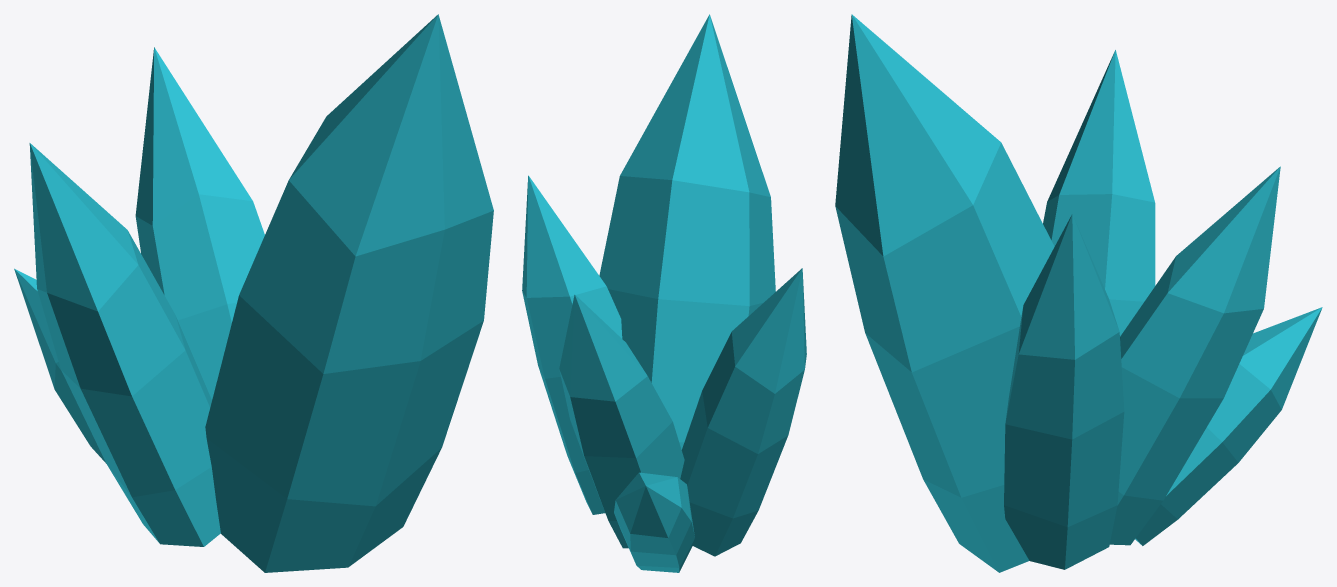
Rendered from CrystalCluster2.fbx.
3 renders of one model, left to right at view 1: azimuth 30°, elevation 25°; view 2: azimuth 150°, elevation 25°; view 3: azimuth 270°, elevation 25°, orthographic. The views are drawn at different scales.
Parts seen in each view (by area): view 1: CrystalClutser2; view 2: CrystalClutser2; view 3: CrystalClutser2.
Part boxes in pixels (left/top/right/bottom): CrystalClutser2: left=14, top=14, right=493, bottom=572; CrystalClutser2: left=522, top=14, right=806, bottom=572; CrystalClutser2: left=835, top=14, right=1322, bottom=572.
Size of the model in its own units: 860 by 1268 by 994.
